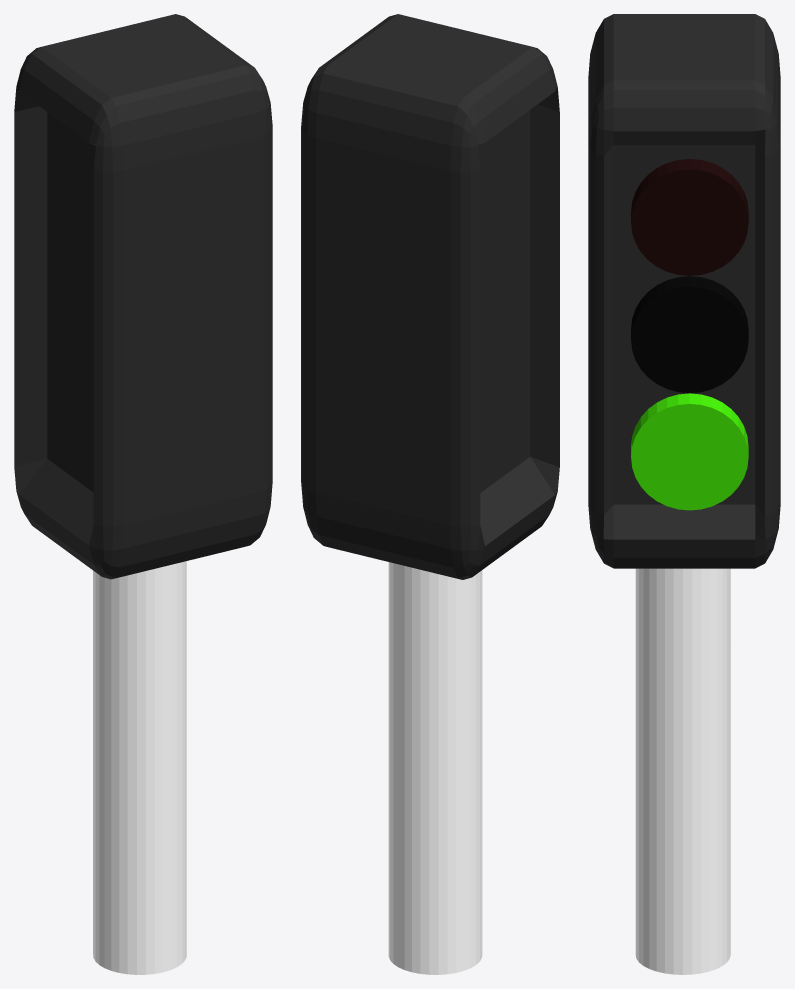
File: TR.GREEN.glb
3 renders of one model, left to right at view 1: azimuth 30°, elevation 25°; view 2: azimuth 150°, elevation 25°; view 3: azimuth 270°, elevation 25°, orthographic.
Visible parts, largest first — view 1: Cube, Cylinder; view 2: Cube, Cylinder; view 3: Cube, Cylinder, Cylinder.004, Cylinder.003, Cylinder.002.
Boxes of the visible parts, left/top/right/bottom form: Cube: left=14, top=14, right=272, bottom=579; Cylinder: left=93, top=561, right=186, bottom=974; Cube: left=301, top=14, right=559, bottom=579; Cylinder: left=388, top=562, right=482, bottom=974; Cube: left=588, top=14, right=780, bottom=568; Cylinder: left=635, top=568, right=730, bottom=974; Cylinder.004: left=631, top=393, right=748, bottom=510; Cylinder.003: left=631, top=276, right=748, bottom=393; Cylinder.002: left=631, top=159, right=748, bottom=275.
Size of the model in its own units: 2.02 by 9.69 by 1.86.
